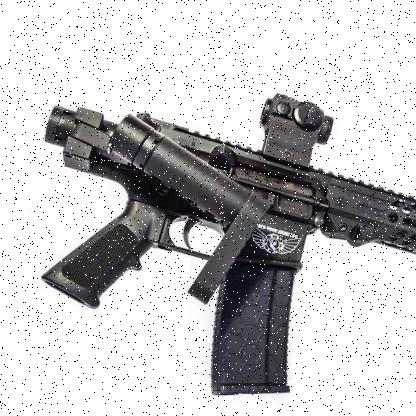rifle: (32, 91, 416, 416)
